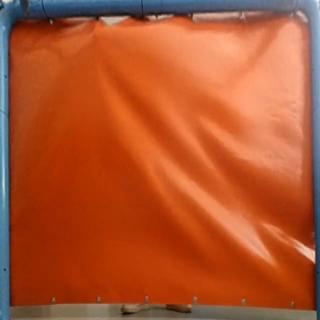Hit-hRxx: (88, 28, 102, 40)
